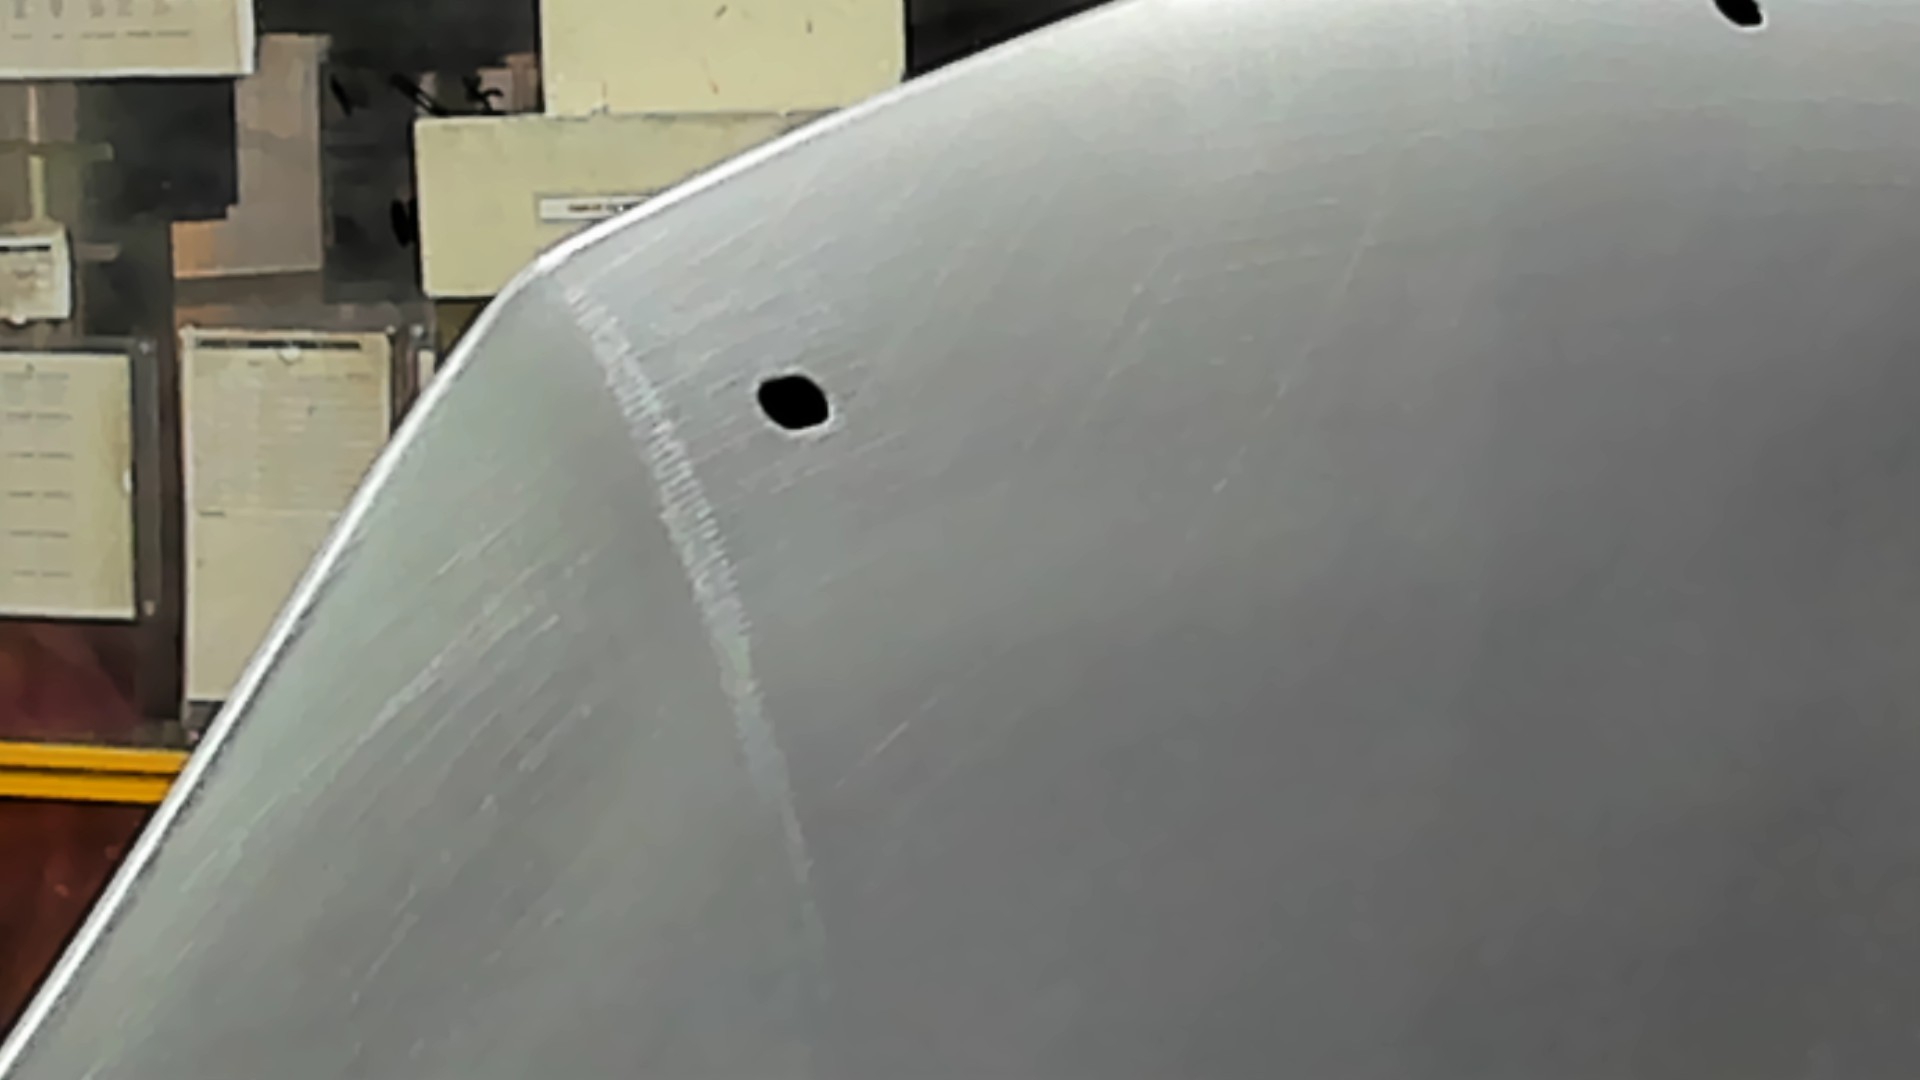amorfo: (746, 365, 837, 438), (1704, 1, 1778, 36)
capo: (951, 102, 1920, 1080)
